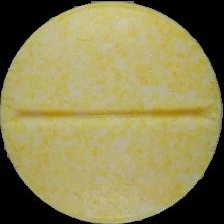0054-4550: (0, 0, 224, 224)
